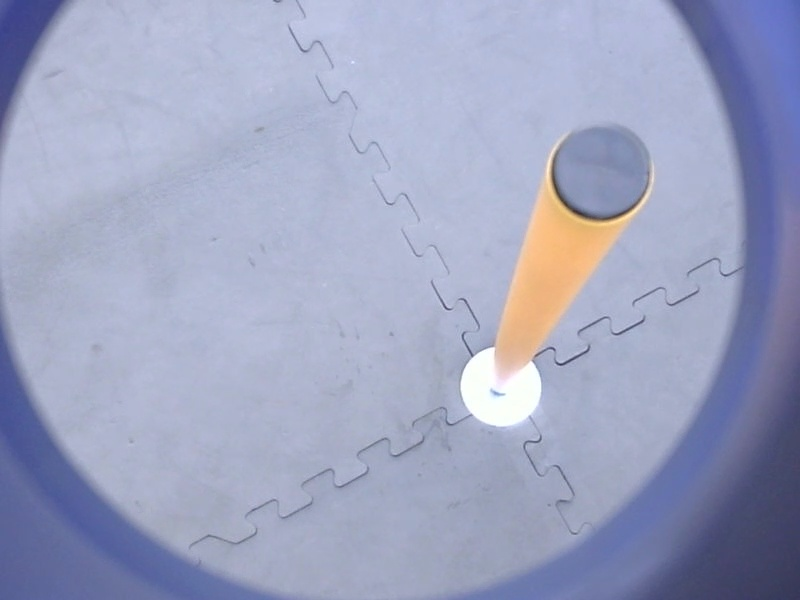tip: (540, 116, 661, 229)
